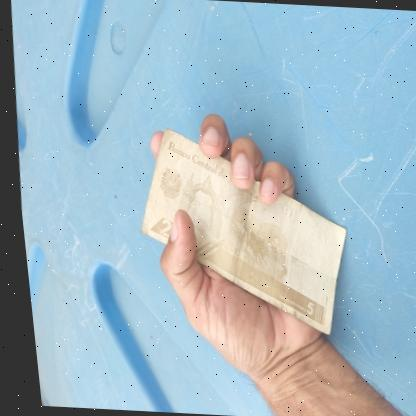five-back-vef: (123, 126, 355, 335)
